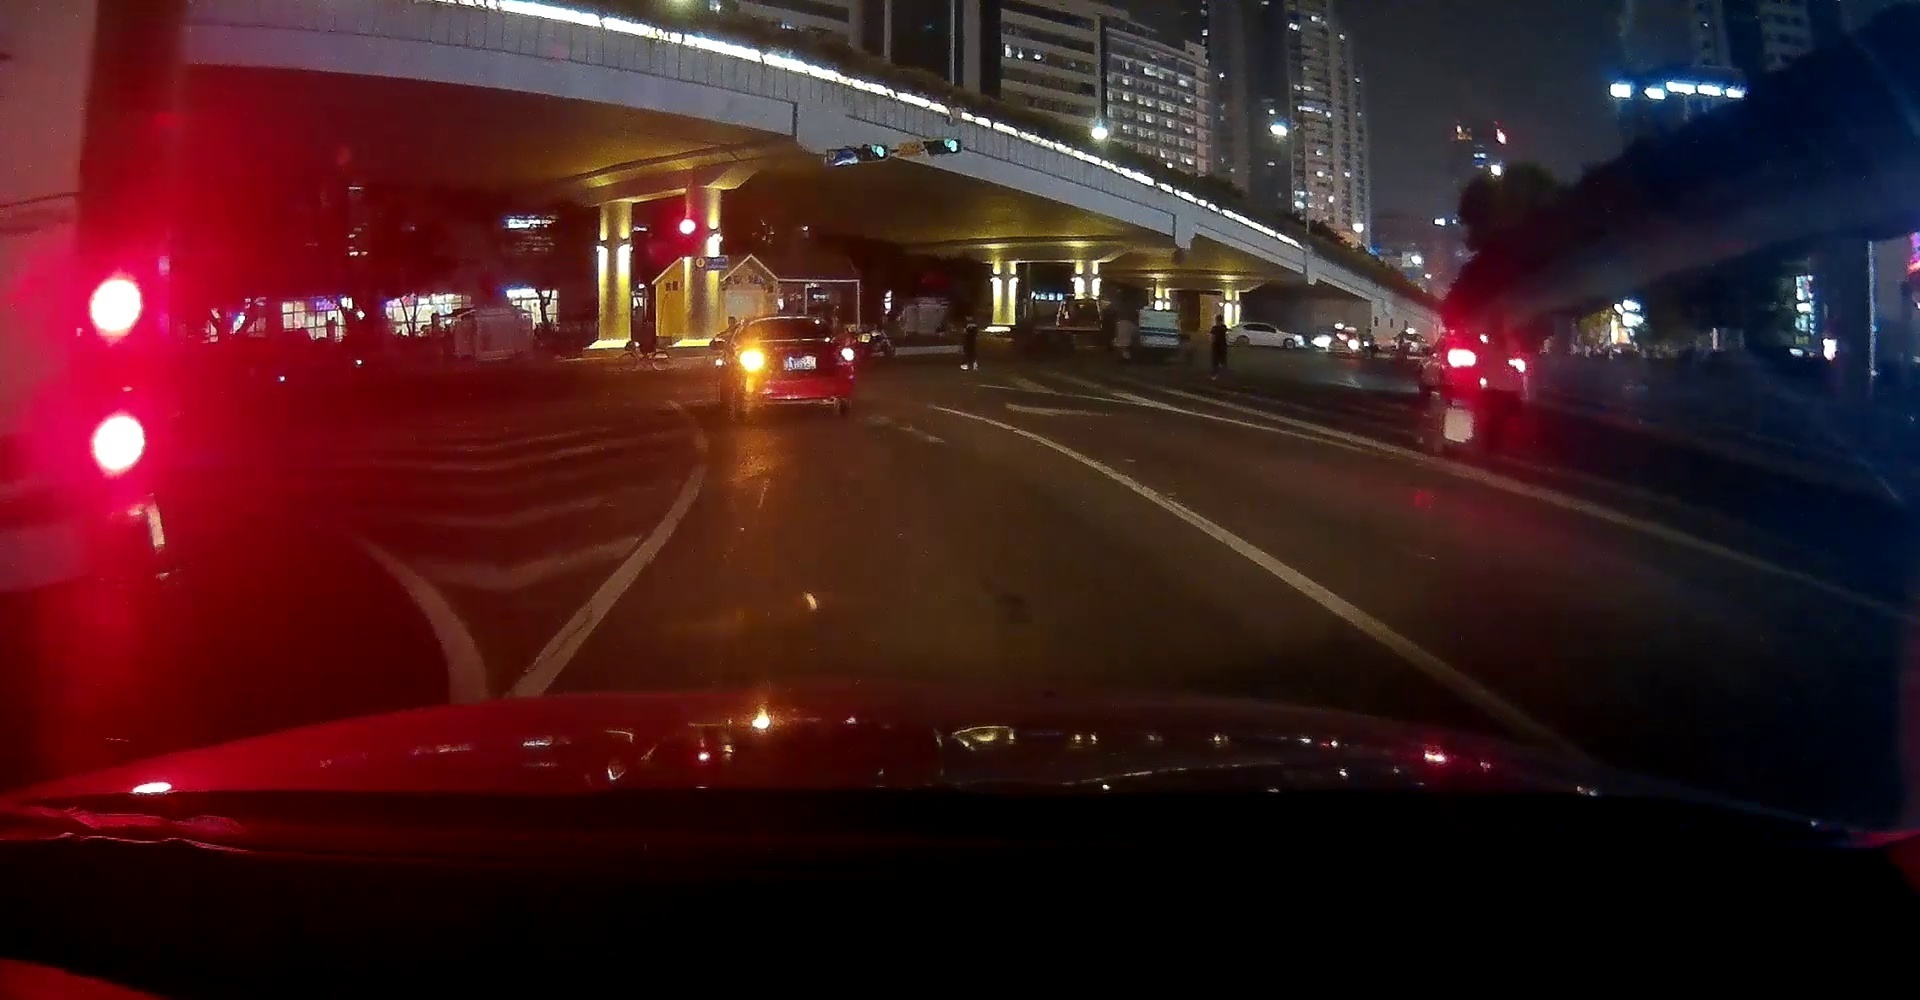L_light: (740, 352, 764, 371)
R_light: (836, 348, 855, 364)
T_light: (782, 319, 800, 325)
night-left: (738, 315, 856, 420)
